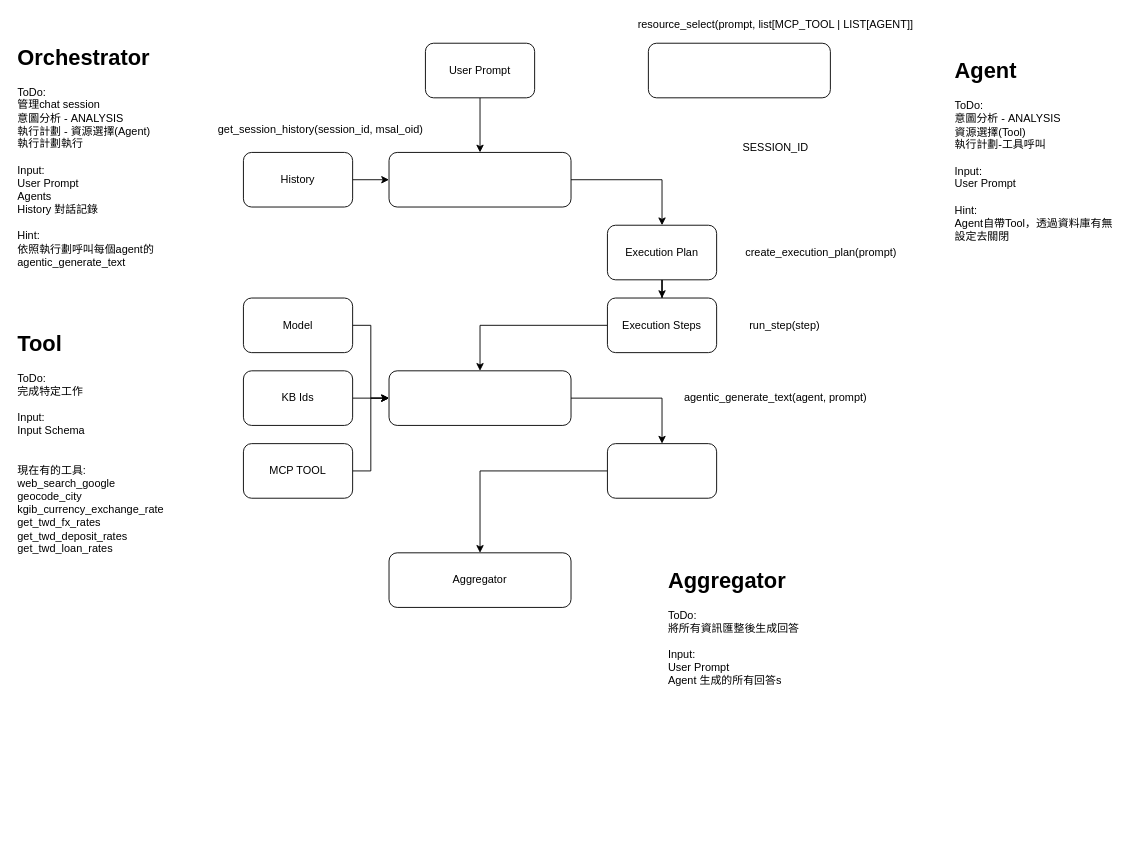
The diagram is 1132 pixels wide and 862 high, and some of its shapes have lost their labels. Each missing label, with the centre of its shape:
"Agent / Pool" belongs at pixel 479 397.
"Orchestrator" belongs at pixel 479 179.
"ResourceSelector" belongs at pixel 738 70.
"Text" belongs at pixel 662 470.
